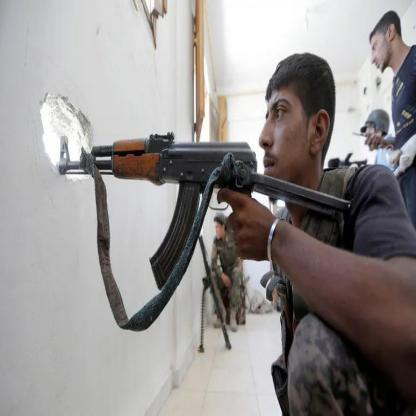rifle: (56, 130, 351, 291)
